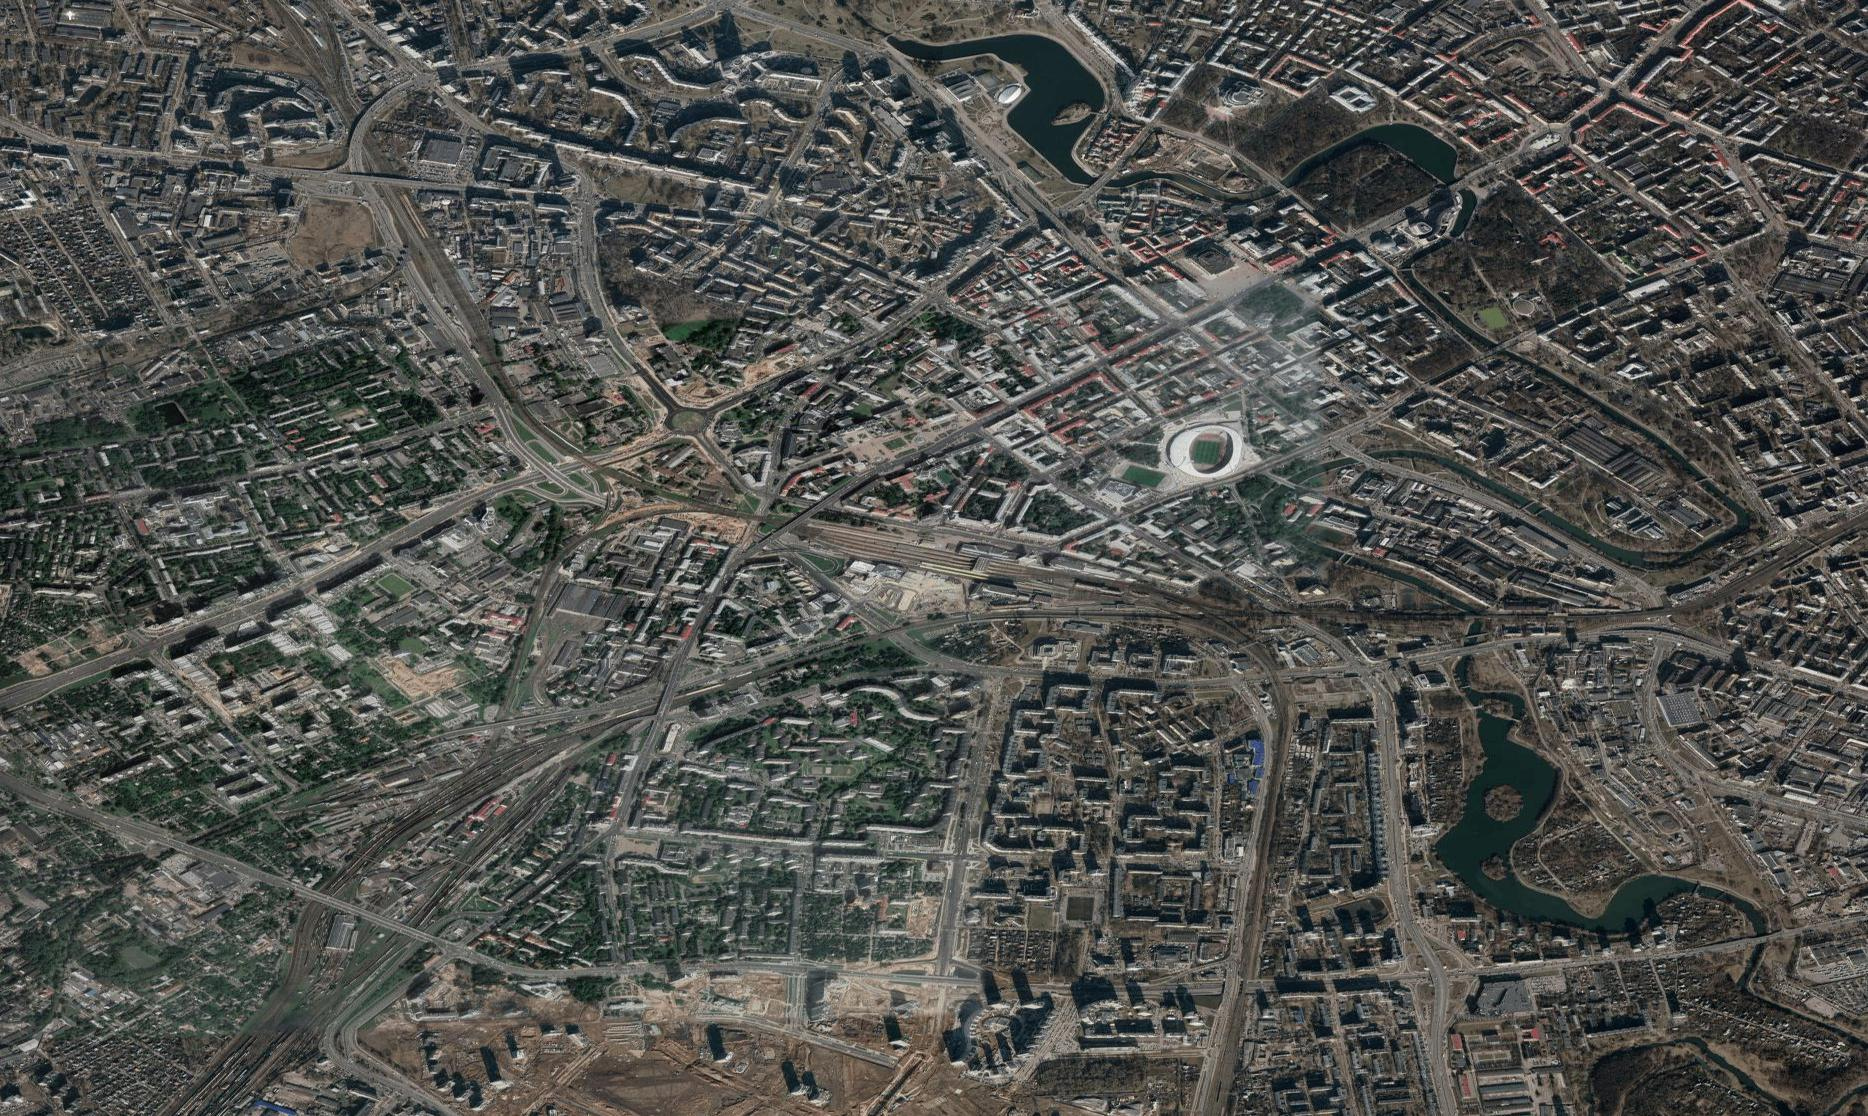bridge: (349, 96, 379, 190), (651, 670, 682, 725), (287, 886, 347, 911), (775, 514, 814, 539)
train_station: (816, 515, 1042, 586)
